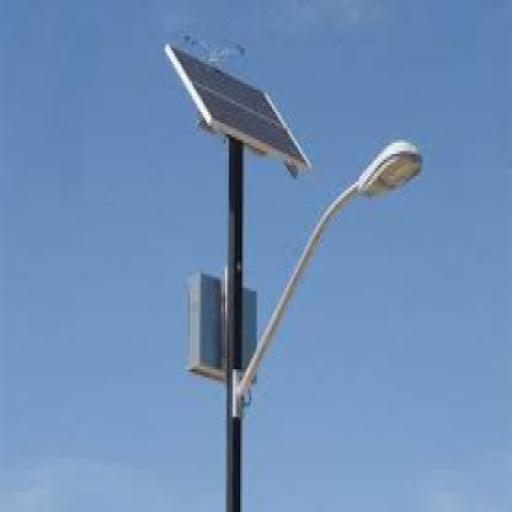street light: (188, 140, 425, 510)
